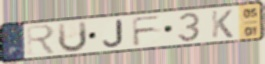3: (175, 11, 203, 43)
F: (130, 14, 164, 48)
J: (101, 18, 125, 49)
K: (210, 9, 235, 40)
R: (25, 23, 58, 57)
U: (56, 19, 89, 54)
